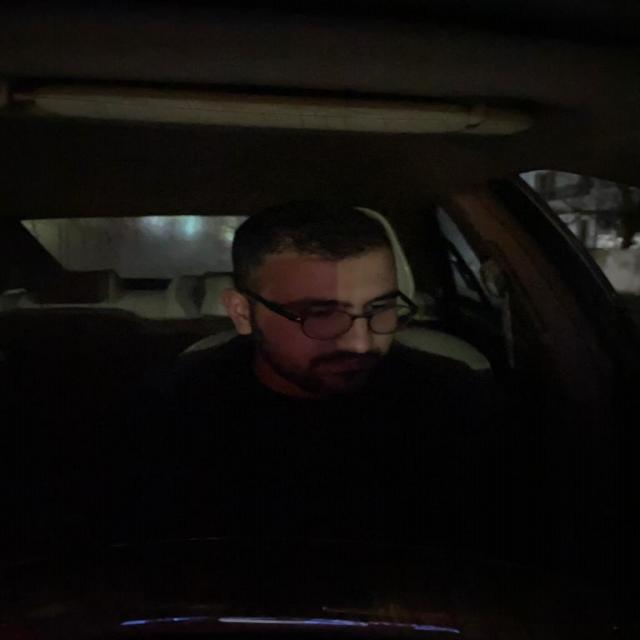person: (217, 194, 438, 406)
